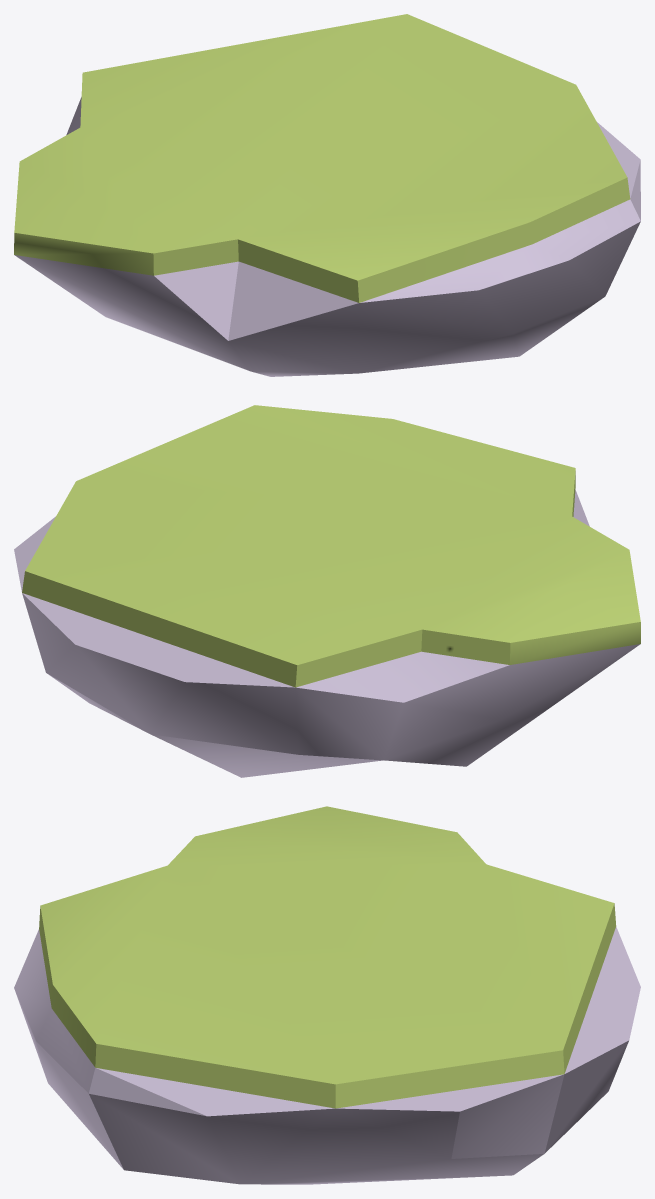
Rendered from platform.gltf.
The picture shows the model from 3 angles, top to bottom: view 1: azimuth 30°, elevation 25°; view 2: azimuth 150°, elevation 25°; view 3: azimuth 270°, elevation 25°; orthographic projection. The views are drawn at different scales.
Parts seen in each view (by area): view 1: Cube; view 2: Cube; view 3: Cube.
Part boxes in pixels (x1=…): Cube: x1=14, y1=14, x2=640, y2=376; Cube: x1=14, y1=405, x2=640, y2=777; Cube: x1=14, y1=806, x2=640, y2=1184.
Size of the model in its own units: 5.32 by 1.61 by 4.92.
1 material, 1 textured.
